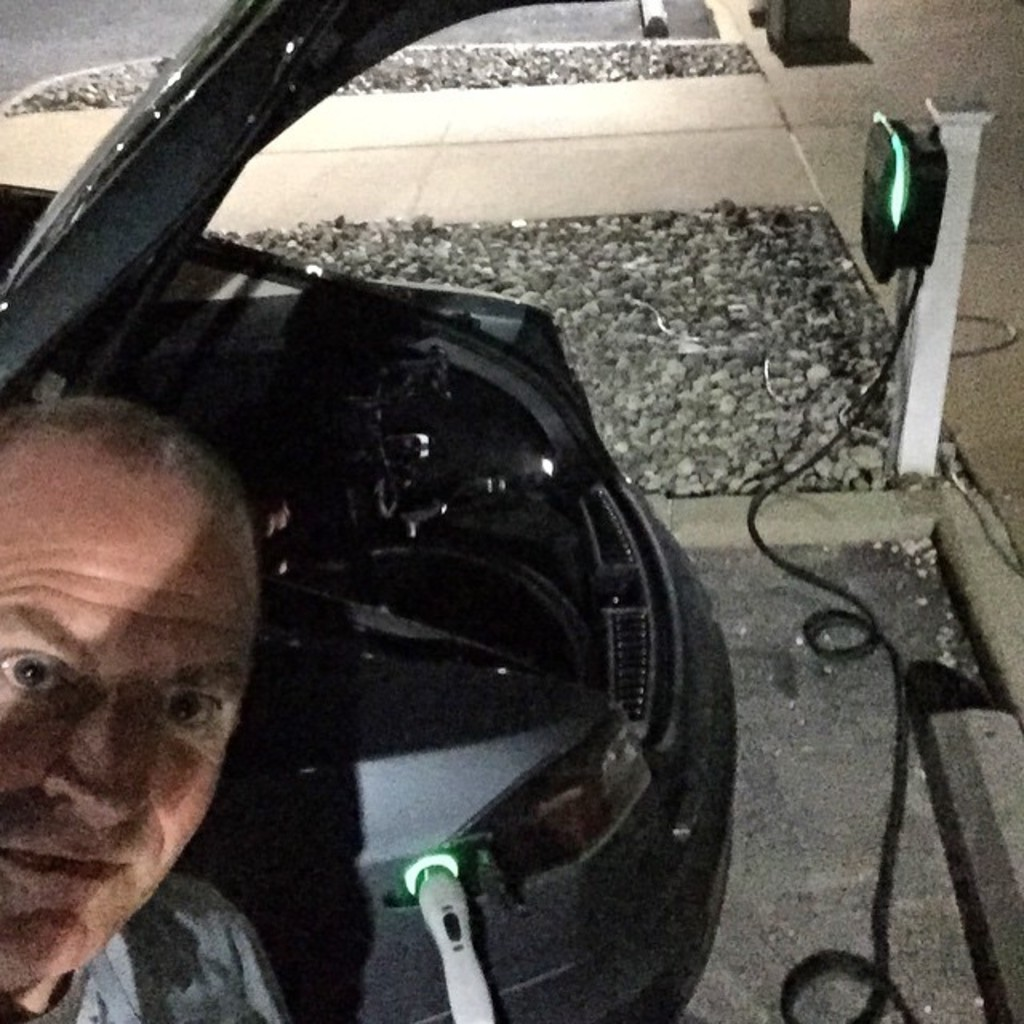Car: (0, 0, 740, 1022)
